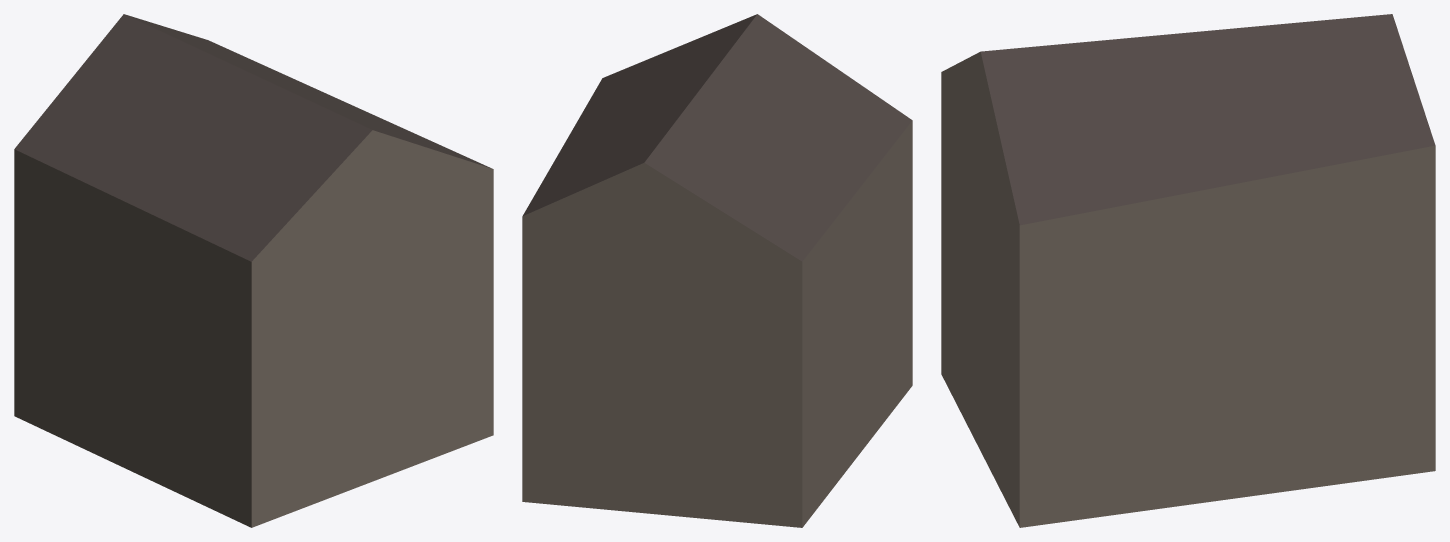
3 renders of one model, left to right at view 1: azimuth 30°, elevation 25°; view 2: azimuth 150°, elevation 25°; view 3: azimuth 270°, elevation 25°, orthographic. The views are drawn at different scales.
Visible parts, largest first — view 1: HP-w783664778; view 2: HP-w783664778; view 3: HP-w783664778.
Boxes of the visible parts, x1=… form: HP-w783664778: x1=14, y1=14, x2=493, y2=527; HP-w783664778: x1=522, y1=14, x2=912, y2=527; HP-w783664778: x1=941, y1=14, x2=1435, y2=527.
Size of the model in its own units: 8.02 by 7.93 by 8.88.
